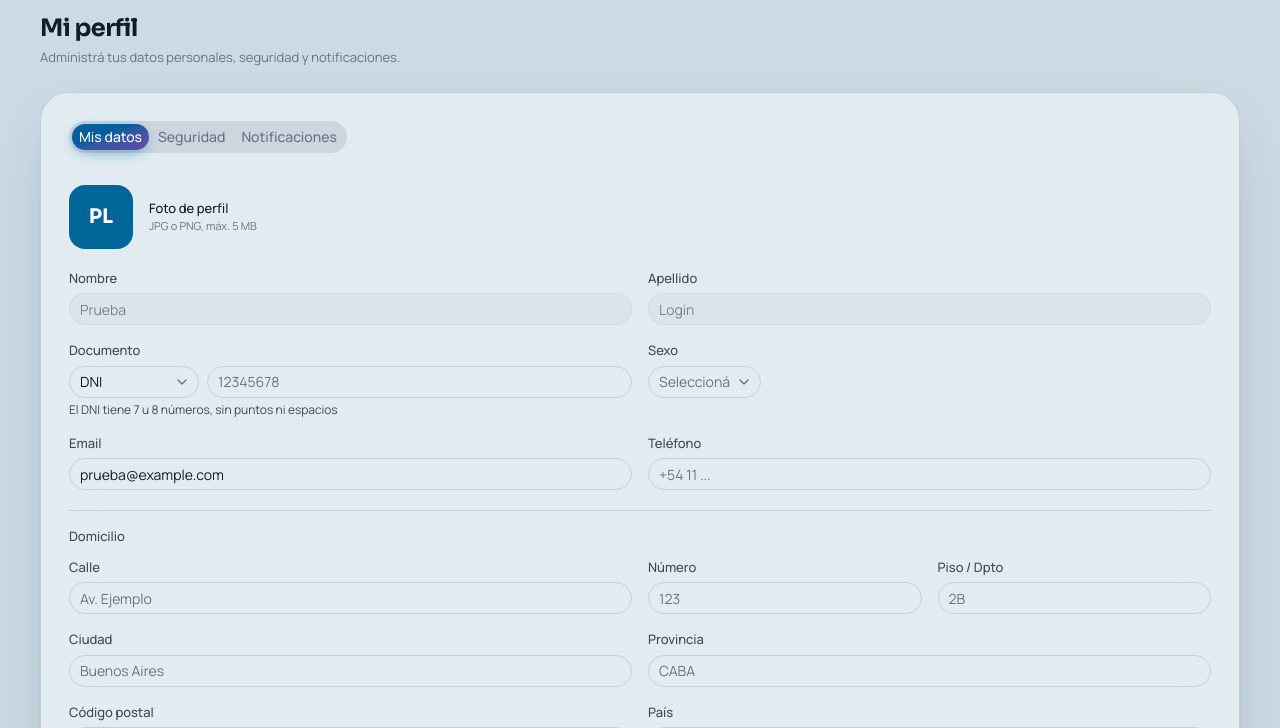
Scenario: MiPerfil — cambiar contraseña › explains the password policy when the new password does not meet it
The width and height of the screenshot is (1280, 728).
Click the tab "Seguridad" at (192,136), box 151,124 -> 232,149
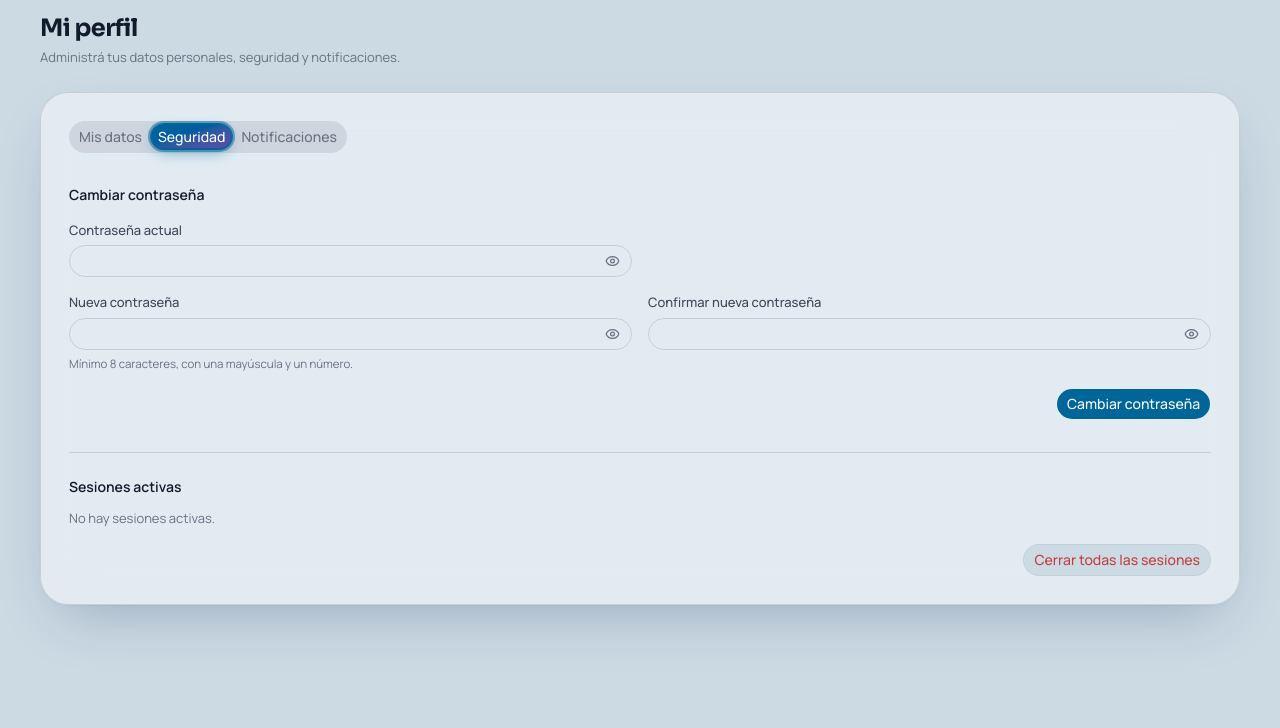
Type "Actual123" into the password field below "Contraseña actual" at (350,261), box 69,245 -> 632,277
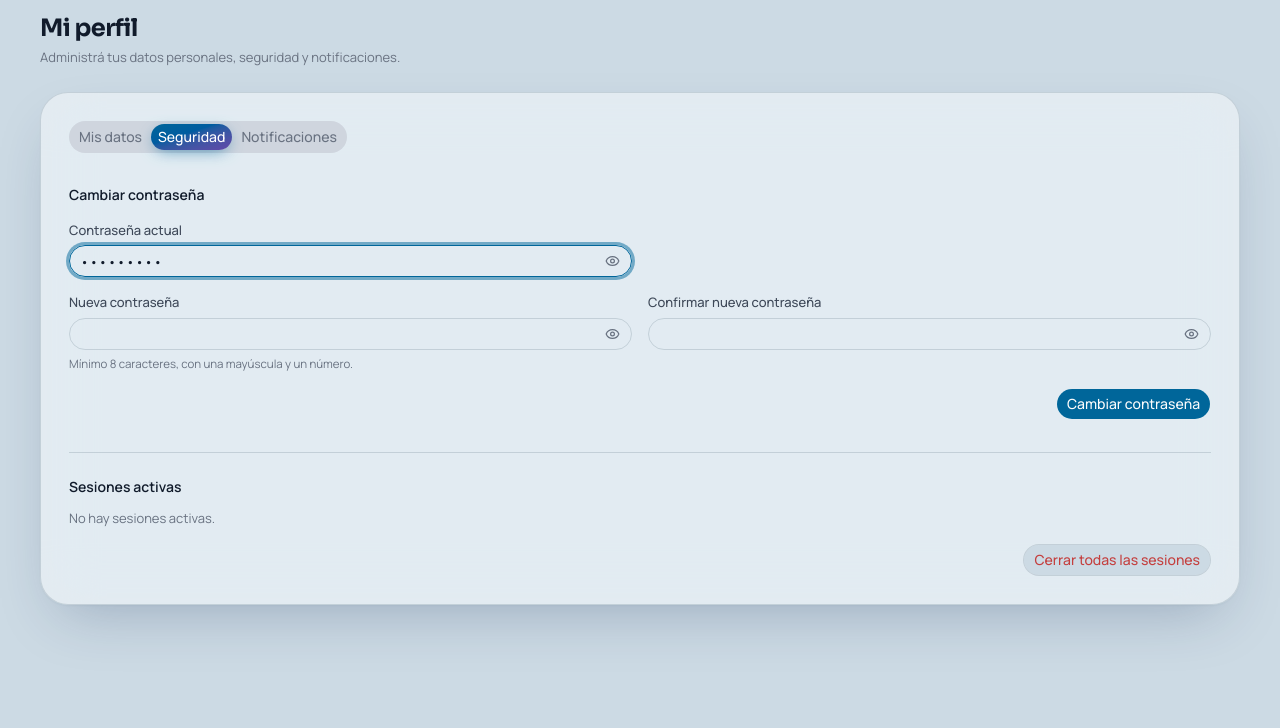
Type "nueva1234" into the 2nd password field at (350,334), box 69,318 -> 632,350
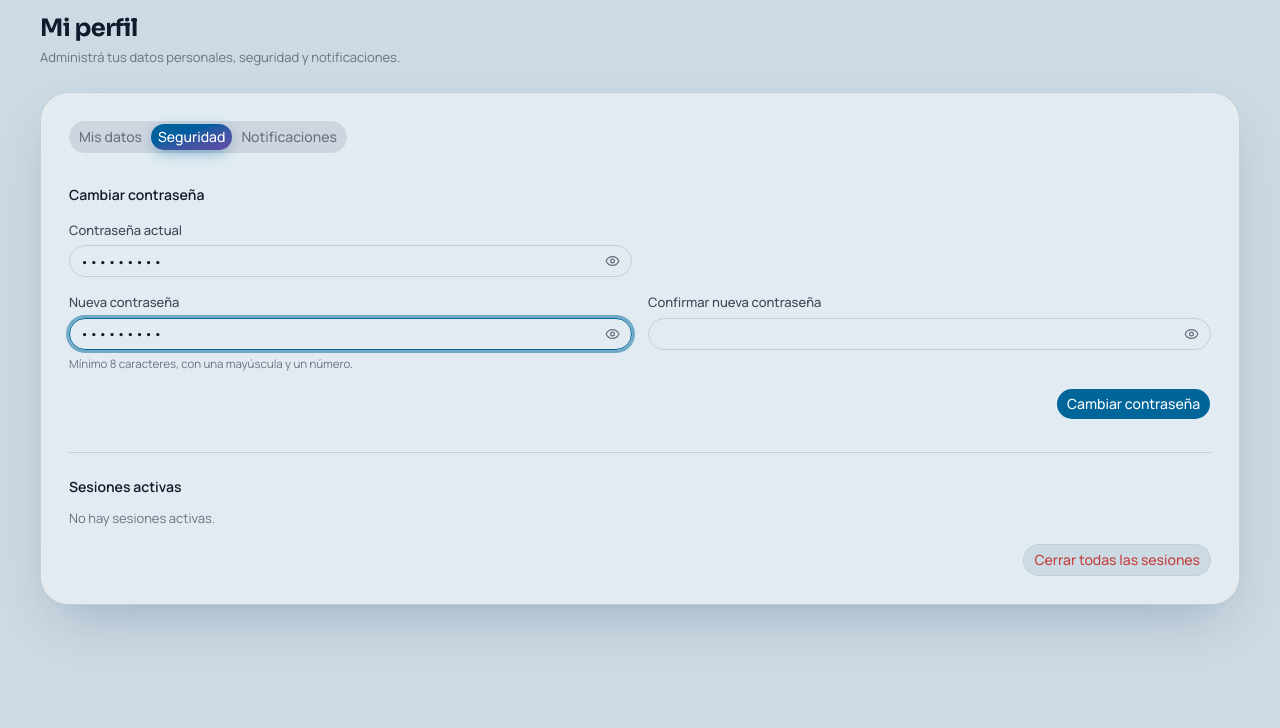
Type "nueva1234" into the password field below "Confirmar nueva contraseña" at (930,334), box 648,318 -> 1211,350
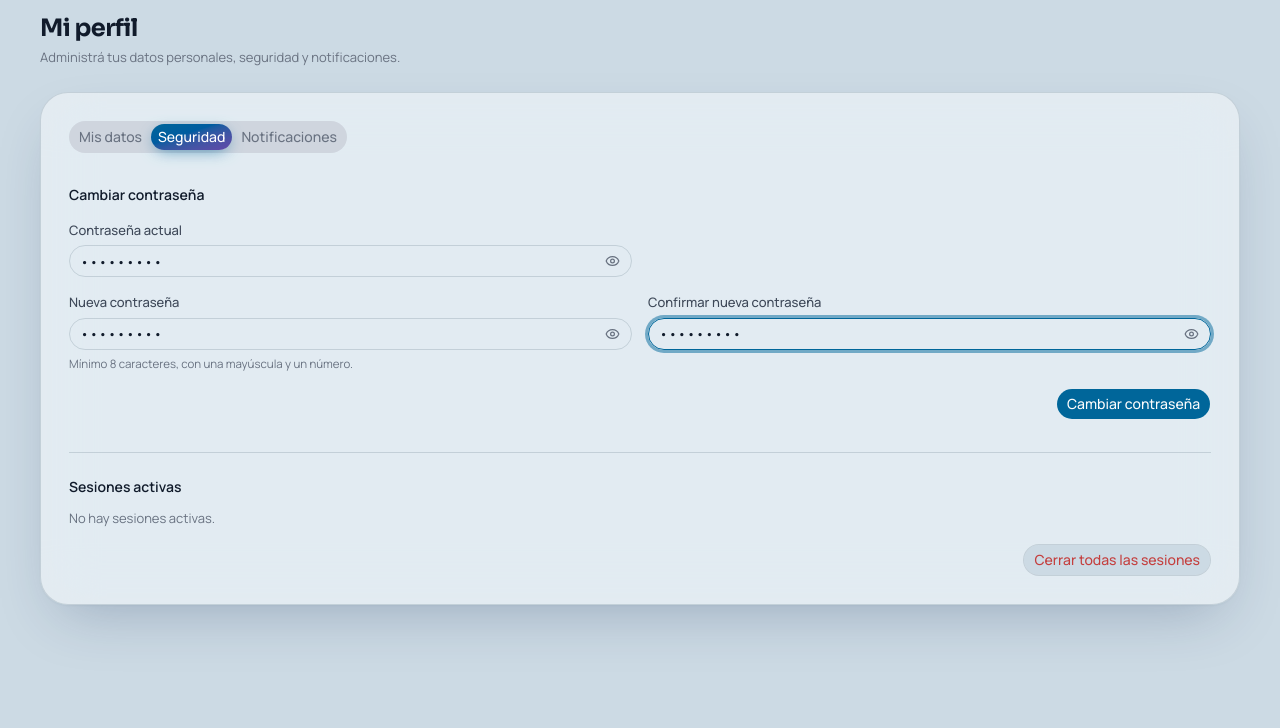
Click the button "Cambiar contraseña" at (1133,404), box 1056,388 -> 1211,420
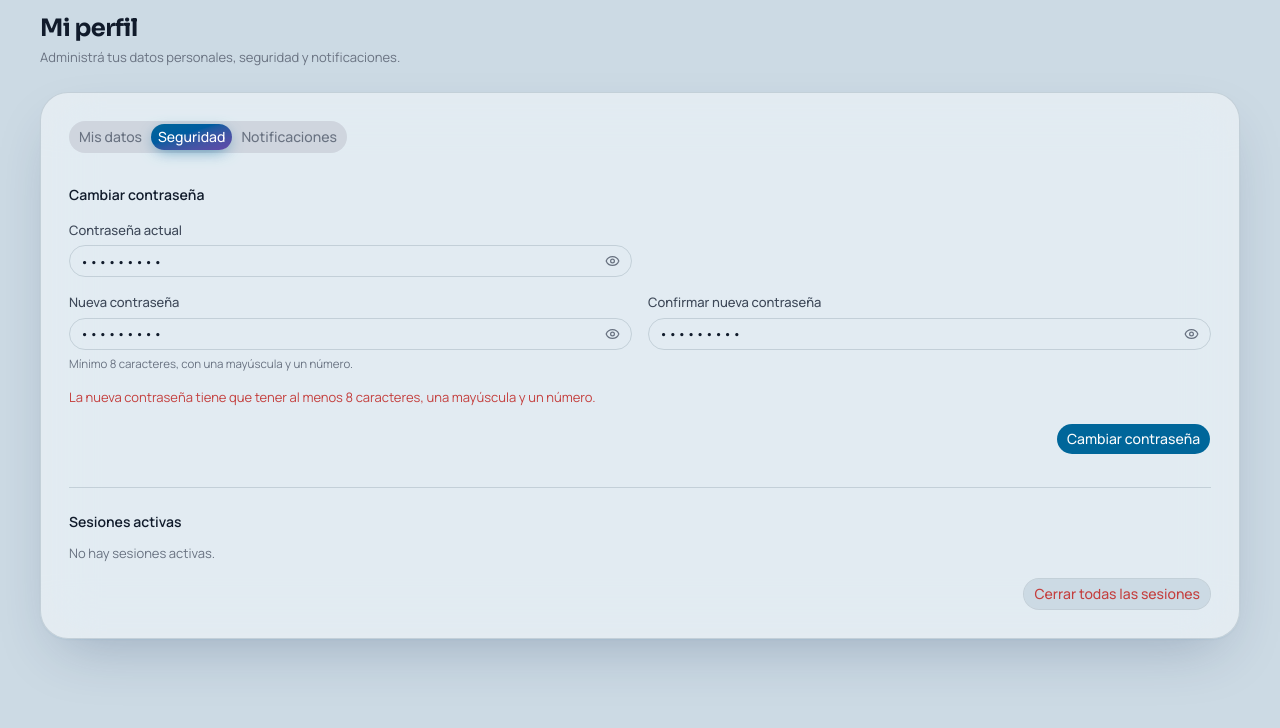
Check: the text "La nueva contraseña tiene que tener al menos 8 caracteres, una mayúscula y un número." is shown, box 69,388 -> 596,406
